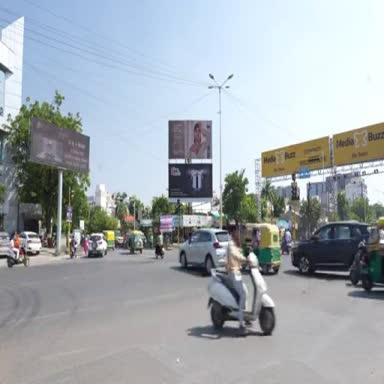Car: (291, 221, 368, 274), (178, 229, 231, 274), (20, 232, 41, 254), (88, 234, 107, 256), (0, 232, 10, 258)
